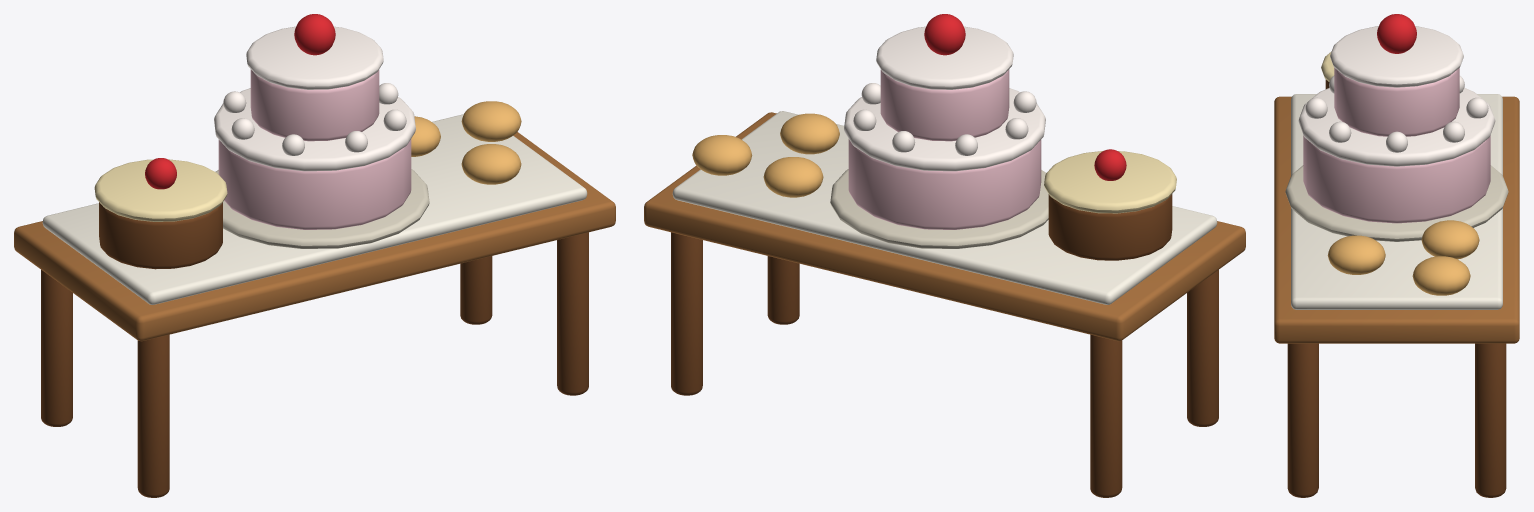
The model's file is cake_table.glb.
3 views of the same model, side by side, from view 1: azimuth 30°, elevation 25°; view 2: azimuth 150°, elevation 25°; view 3: azimuth 270°, elevation 25° (orthographic). The views are drawn at different scales.
Visible parts, largest first — view 1: cake_table; view 2: cake_table; view 3: cake_table.
Part boxes in pixels (x1,y1,x2,y2): cake_table: (14, 14, 615, 497); cake_table: (644, 14, 1245, 497); cake_table: (1274, 14, 1519, 497).
Size of the model in its own units: 2.4 by 1.87 by 1.1.
